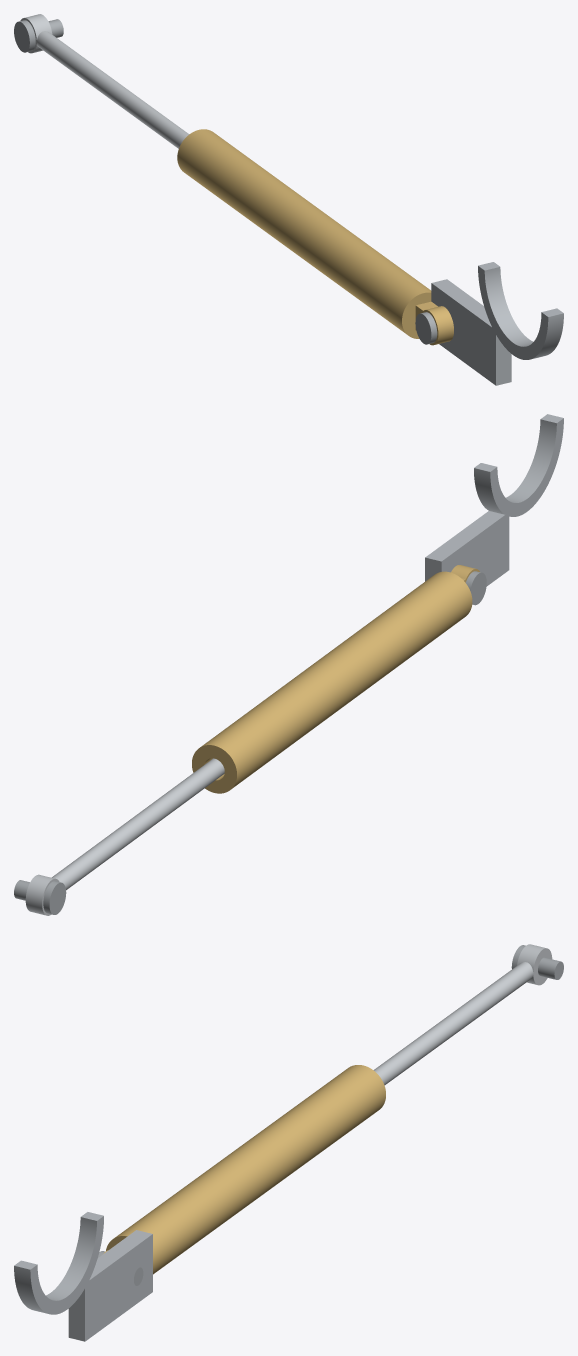
Rendered from esp2026_sa4_recline_lock.glb.
The picture shows the model from 3 angles, top to bottom: view 1: azimuth 30°, elevation 25°; view 2: azimuth 150°, elevation 25°; view 3: azimuth 330°, elevation 25°; orthographic projection. The views are drawn at different scales.
Parts seen in each view (by area): view 1: recline lock, recline lock bracket, recline lock rod, recline lock pin, rear, recline lock pin, front; view 2: recline lock, recline lock bracket, recline lock rod, recline lock pin, rear; view 3: recline lock, recline lock bracket, recline lock rod, recline lock pin, rear.
Boxes of the visible parts, left/top/right/bottom form: recline lock: left=177, top=129, right=453, bottom=345; recline lock bracket: left=431, top=262, right=563, bottom=385; recline lock rod: left=20, top=14, right=189, bottom=148; recline lock pin, rear: left=14, top=19, right=63, bottom=52; recline lock pin, front: left=415, top=312, right=437, bottom=344; recline lock: left=192, top=565, right=479, bottom=793; recline lock bracket: left=425, top=414, right=563, bottom=586; recline lock rod: left=25, top=758, right=224, bottom=915; recline lock pin, rear: left=14, top=880, right=66, bottom=914; recline lock: left=103, top=1065, right=385, bottom=1274; recline lock bracket: left=14, top=1212, right=152, bottom=1341; recline lock rod: left=373, top=944, right=552, bottom=1085; recline lock pin, rear: left=511, top=945, right=563, bottom=979.
Size of the model in its own units: 23 by 52 by 453.
